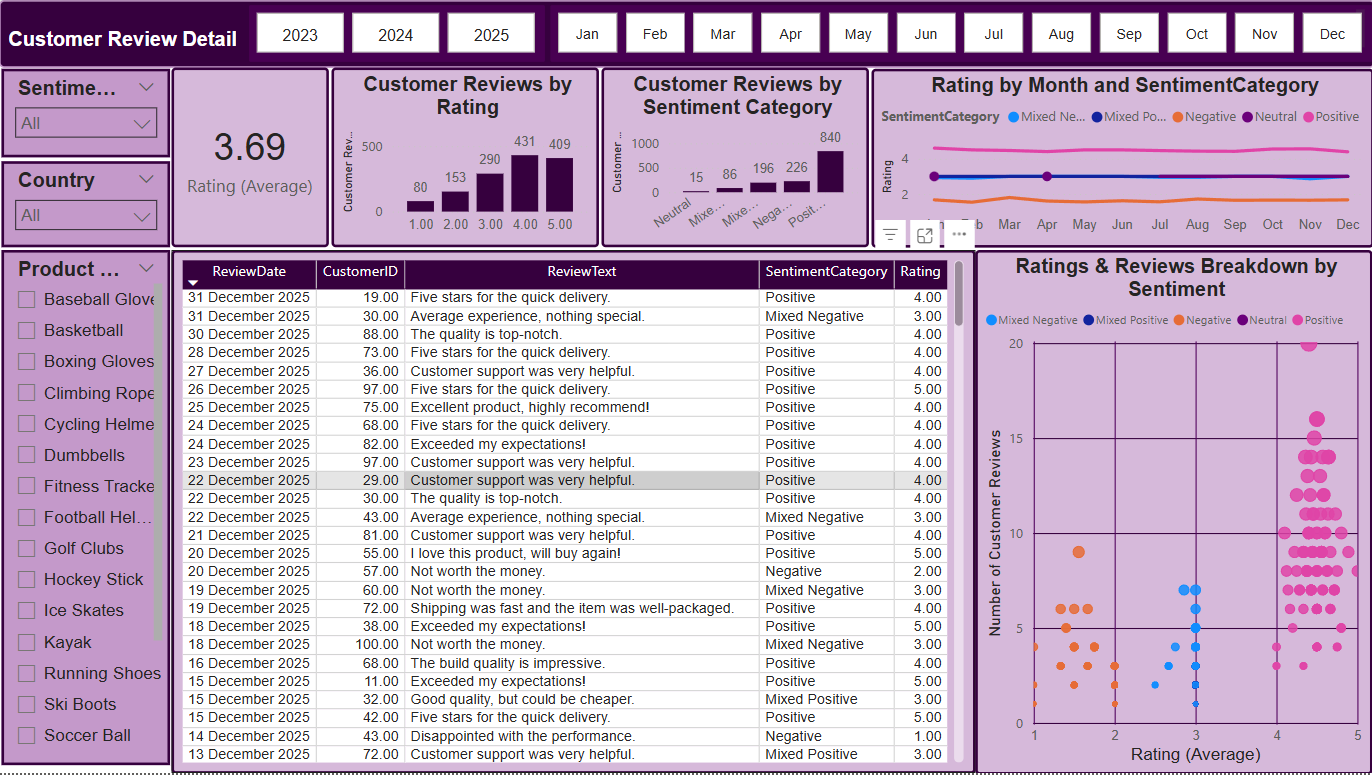

This screenshot's page, from the dashboard's own definition file:
{"tool":"powerbi","page":{"name":"Customer Review Details","canvas":[1280,720],"ordinal":3},"visuals":[{"type":"textbox","box":[0,0,1280,62.9],"z":0},{"type":"slicer","fields":{"Values":["dim_products.ProductName"]},"box":[2.3,232.6,157,479.1],"z":1000},{"type":"advancedSlicerVisual","fields":{"Values":["Calendar.Year"]},"box":[230.5,2.7,279.9,57.6],"z":2000},{"type":"advancedSlicerVisual","fields":{"Values":["Calendar.MonthNameShort"]},"box":[510.5,2.7,769.8,57.6],"z":3000},{"type":"slicer","fields":{"Values":["fact_customer_reviews_with_sentiment.SentimentCategory"]},"box":[2.3,64,157,82.6],"z":4000},{"type":"slicer","fields":{"Values":["dim_customers.Country"]},"box":[2.3,150,157,80.2],"z":5000},{"type":"card","fields":{"Values":["_calculations.Rating (Average)"]},"box":[160.5,62.8,146.5,167.4],"z":6000},{"type":"clusteredColumnChart","fields":{"Category":["fact_customer_reviews_with_sentiment.Rating"],"Y":["_calculations.Number of Customer Reviews"]},"box":[309.3,62.8,248.8,167.4],"z":7000},{"type":"clusteredColumnChart","fields":{"Y":["_calculations.Number of Customer Reviews"],"Category":["fact_customer_reviews_with_sentiment.SentimentCategory"]},"box":[560.5,62.8,248.8,167.4],"z":8000},{"type":"lineChart","fields":{"Category":["Calendar.MonthNameShort"],"Series":["fact_customer_reviews_with_sentiment.SentimentCategory"],"Y":["_calculations.Rating (Average)"]},"box":[811.6,64,467.4,166.3],"z":9000},{"type":"tableEx","fields":{"Values":["fact_customer_reviews_with_sentiment.ReviewDate","fact_customer_reviews_with_sentiment.CustomerID","fact_customer_reviews_with_sentiment.ReviewText","fact_customer_reviews_with_sentiment.SentimentCategory","fact_customer_reviews_with_sentiment.Rating"]},"box":[160.5,232.6,747.7,487.2],"z":10000},{"type":"scatterChart","title":"Ratings & Reviews Breakdown by Sentiment","fields":{"Category":["fact_customer_reviews_with_sentiment.CustomerID"],"X":["_calculations.Rating (Average)"],"Y":["_calculations.Number of Customer Reviews"],"Series":["fact_customer_reviews_with_sentiment.SentimentCategory"],"Size":["_calculations.Number of Customer Reviews"]},"box":[908.6,232,369.9,488.2],"z":11000}]}

Visuals, with their boxes in screenshot pixels (x1, y1, x2, y2), scaled from the page's 1280x720 canvas onto the 1372x776 screenshot:
textbox: 0:0:1371:68
slicer - dim_products.ProductName: 2:251:171:767
advancedSlicerVisual - Calendar.Year: 247:3:547:65
advancedSlicerVisual - Calendar.MonthNameShort: 547:3:1371:65
slicer - fact_customer_reviews_with_sentiment.SentimentCategory: 2:69:171:158
slicer - dim_customers.Country: 2:162:171:248
card - _calculations.Rating (Average): 172:68:329:248
clusteredColumnChart - fact_customer_reviews_with_sentiment.Rating x _calculations.Number of Customer Reviews: 332:68:598:248
clusteredColumnChart - _calculations.Number of Customer Reviews x fact_customer_reviews_with_sentiment.SentimentCategory: 601:68:867:248
lineChart - Calendar.MonthNameShort x fact_customer_reviews_with_sentiment.SentimentCategory: 870:69:1371:248
tableEx - fact_customer_reviews_with_sentiment.ReviewDate x fact_customer_reviews_with_sentiment.CustomerID: 172:251:973:775
"Ratings & Reviews Breakdown by Sentiment" scatterChart: 974:250:1370:775
